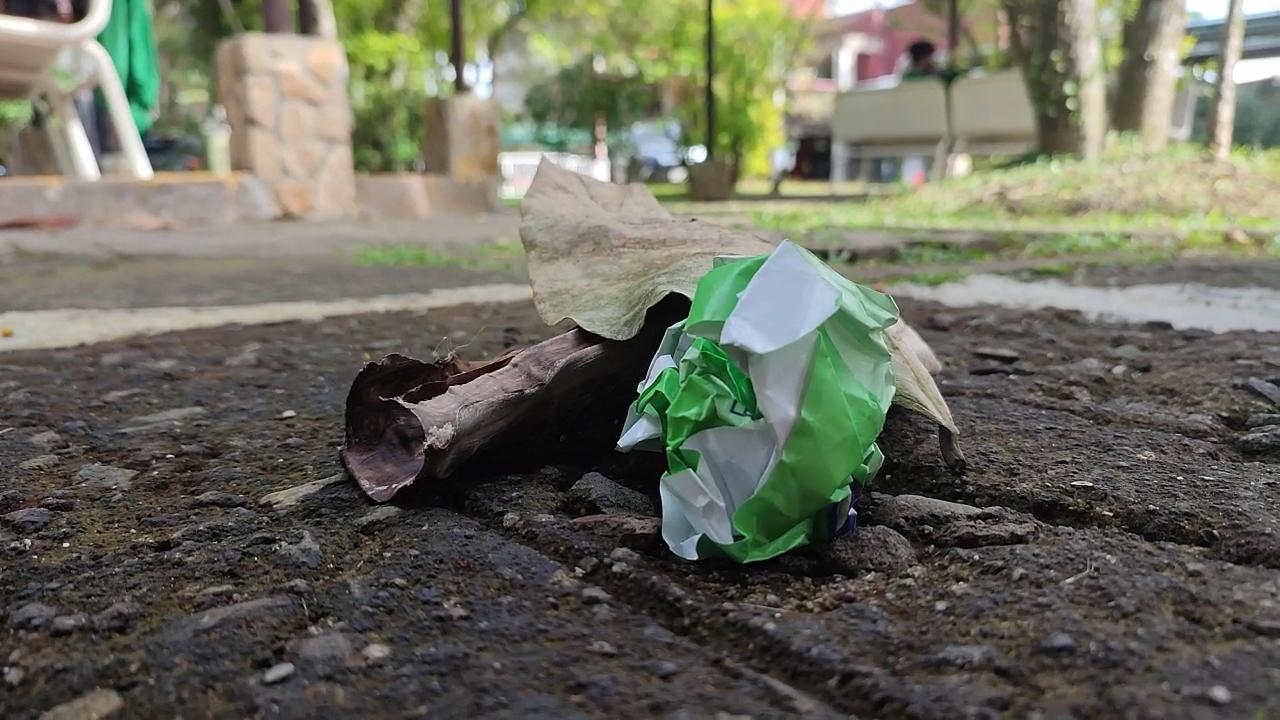Paper: (602, 227, 910, 577)
